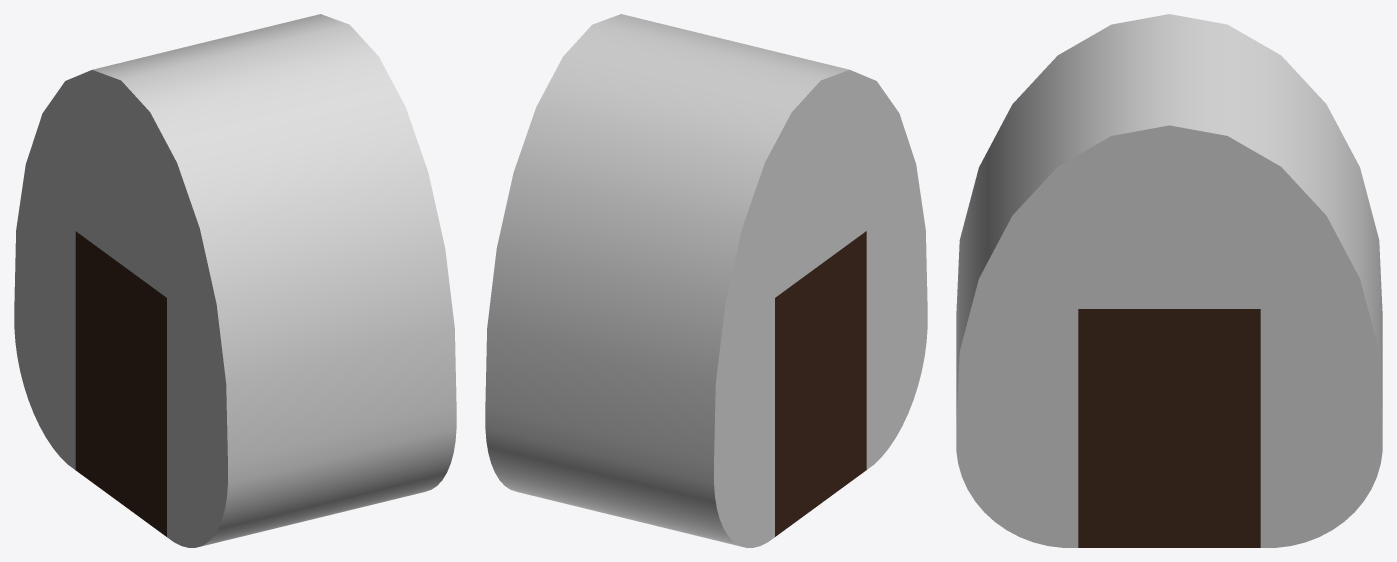
File: rice-ball.glb
3 views of the same model, side by side, from view 1: azimuth 30°, elevation 25°; view 2: azimuth 150°, elevation 25°; view 3: azimuth 270°, elevation 25° (orthographic).
Parts seen in each view (by area): view 1: riceBall; view 2: riceBall; view 3: riceBall.
Boxes of the visible parts, x1,y1,x2,y2 form: riceBall: [14, 14, 456, 547]; riceBall: [485, 14, 927, 547]; riceBall: [956, 14, 1382, 547].
Bounding box in the file's own units: 0.0712 × 0.1259 × 0.1152.
